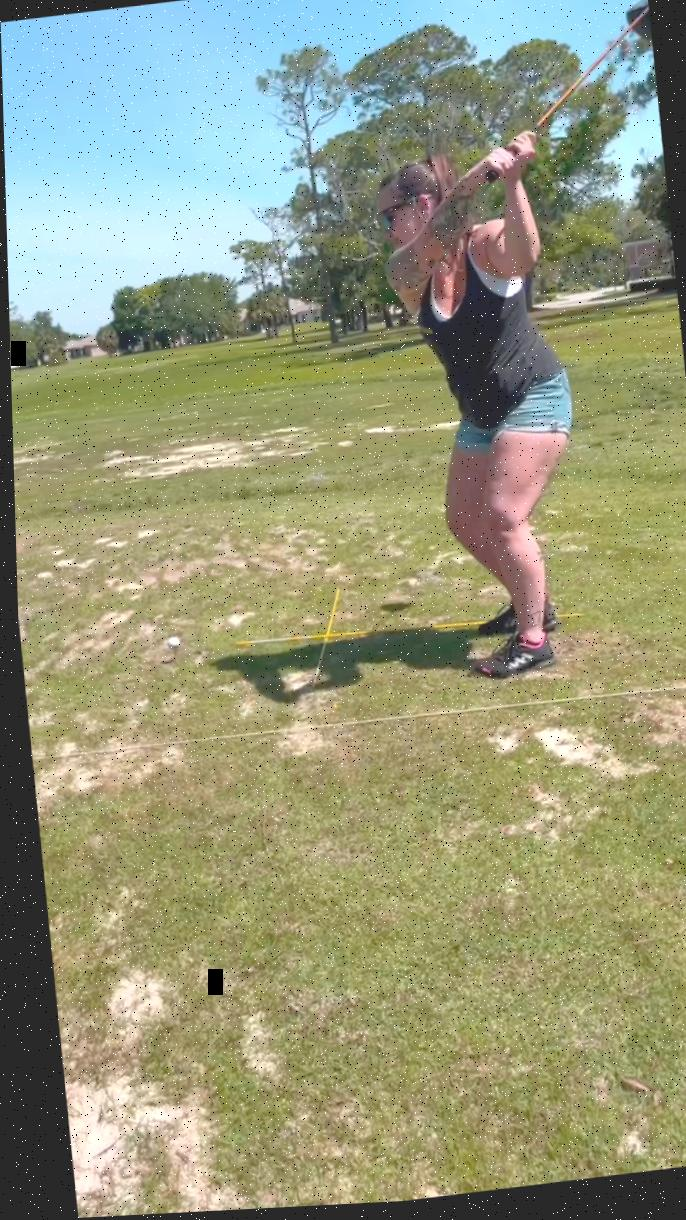ClubHead: (618, 0, 652, 61)
GolfBall: (159, 631, 179, 657)
